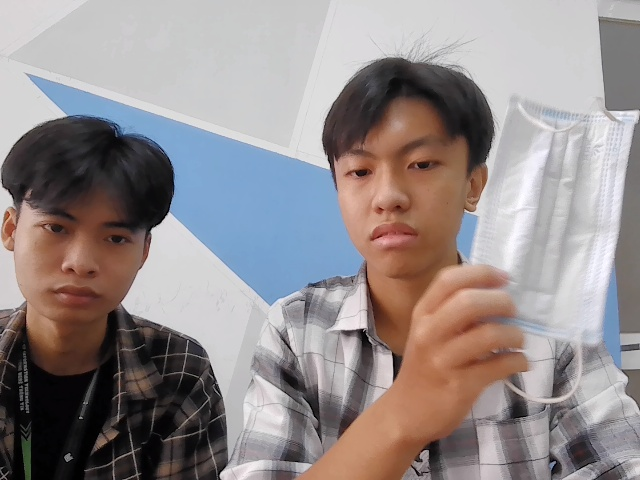human: (1, 115, 192, 325), (324, 51, 489, 278)
mask: (451, 89, 640, 351)
